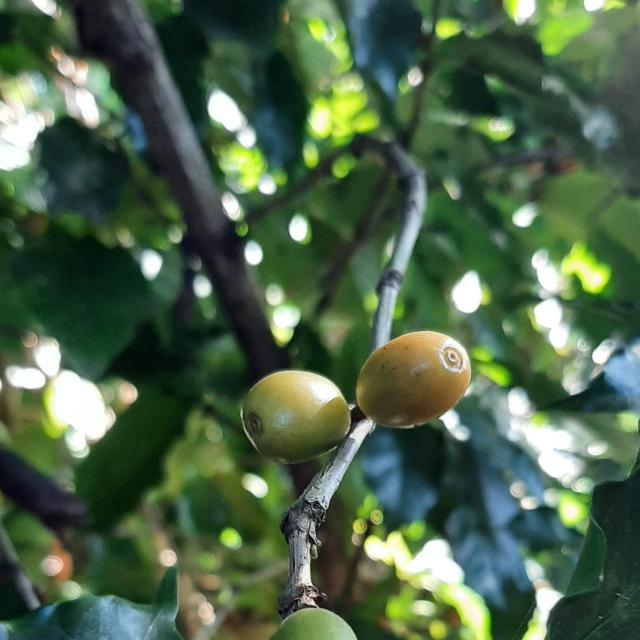green: (270, 609, 358, 640)
yellow: (356, 331, 471, 429), (241, 371, 350, 464)
